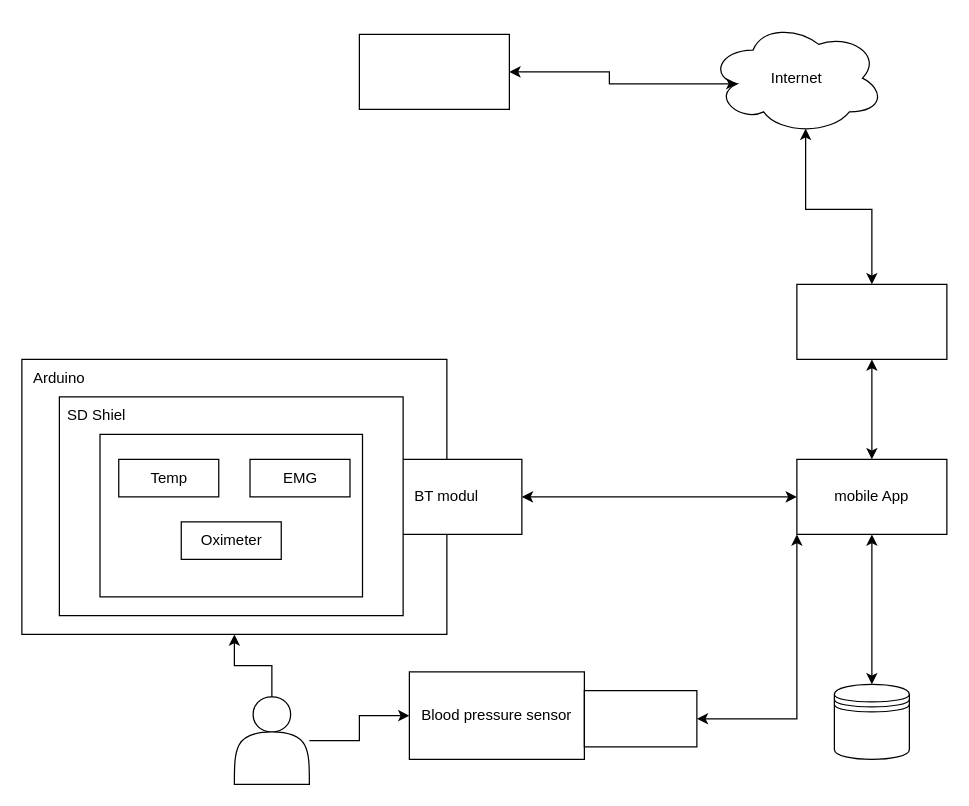
Some shapes in this 969 by 806 pixel diagram are drawn without their labels. The centre of each missing label's shape, as x and y in pixels:
App: (433,71)
BLE modul: (640,718)
Router: (871,321)
